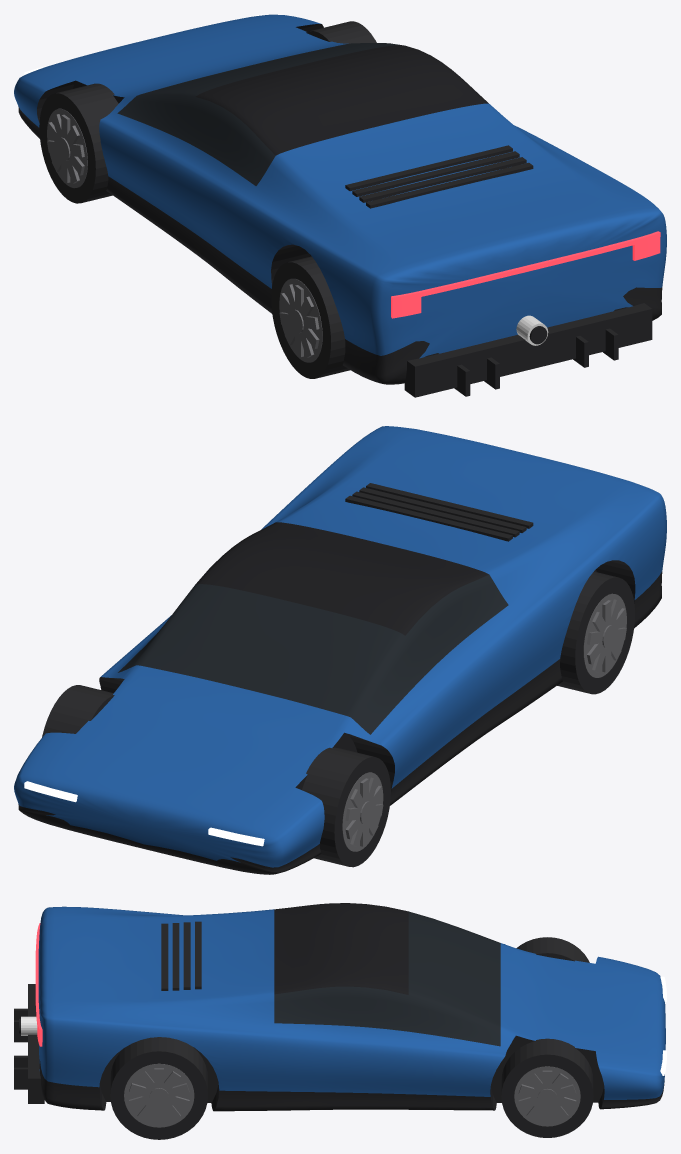
Rendered from cuna.glb.
The picture shows the model from 3 angles, top to bottom: view 1: azimuth 30°, elevation 25°; view 2: azimuth 150°, elevation 25°; view 3: azimuth 270°, elevation 25°; orthographic projection. The views are drawn at different scales.
Visible parts, largest first — view 1: carroceria.001, det_st_plastico.001, rueda_DI.001, rueda_TI.001, det_st_luz_roja.001, rueda_DD.001; view 2: carroceria.001, rueda_DI.001, rueda_TI.001, det_st_plastico.001, rueda_DD.001, det_st_luz_blanca.001; view 3: carroceria.001, rueda_TD.001, rueda_DD.001, det_st_plastico.001, rueda_DI.001, det_st_luz_roja.001.
Boxes of the visible parts, bbox=[...] form: carroceria.001: bbox=[14, 14, 666, 384]; det_st_plastico.001: bbox=[345, 145, 652, 397]; rueda_DI.001: bbox=[39, 83, 118, 203]; rueda_TI.001: bbox=[271, 256, 350, 378]; det_st_luz_roja.001: bbox=[391, 231, 660, 318]; rueda_DD.001: bbox=[306, 21, 376, 43]; carroceria.001: bbox=[14, 426, 666, 874]; rueda_DI.001: bbox=[302, 747, 390, 867]; rueda_TI.001: bbox=[557, 571, 634, 694]; det_st_plastico.001: bbox=[345, 483, 533, 541]; rueda_DD.001: bbox=[42, 685, 114, 737]; det_st_luz_blanca.001: bbox=[24, 781, 264, 846]; carroceria.001: bbox=[38, 903, 665, 1111]; rueda_TD.001: bbox=[110, 1037, 207, 1139]; rueda_DD.001: bbox=[501, 1038, 593, 1137]; det_st_plastico.001: bbox=[14, 921, 201, 1103]; rueda_DI.001: bbox=[516, 937, 589, 962]; det_st_luz_roja.001: bbox=[35, 923, 42, 1046].
Size of the model in its own units: 2.11 by 1.11 by 4.68.
